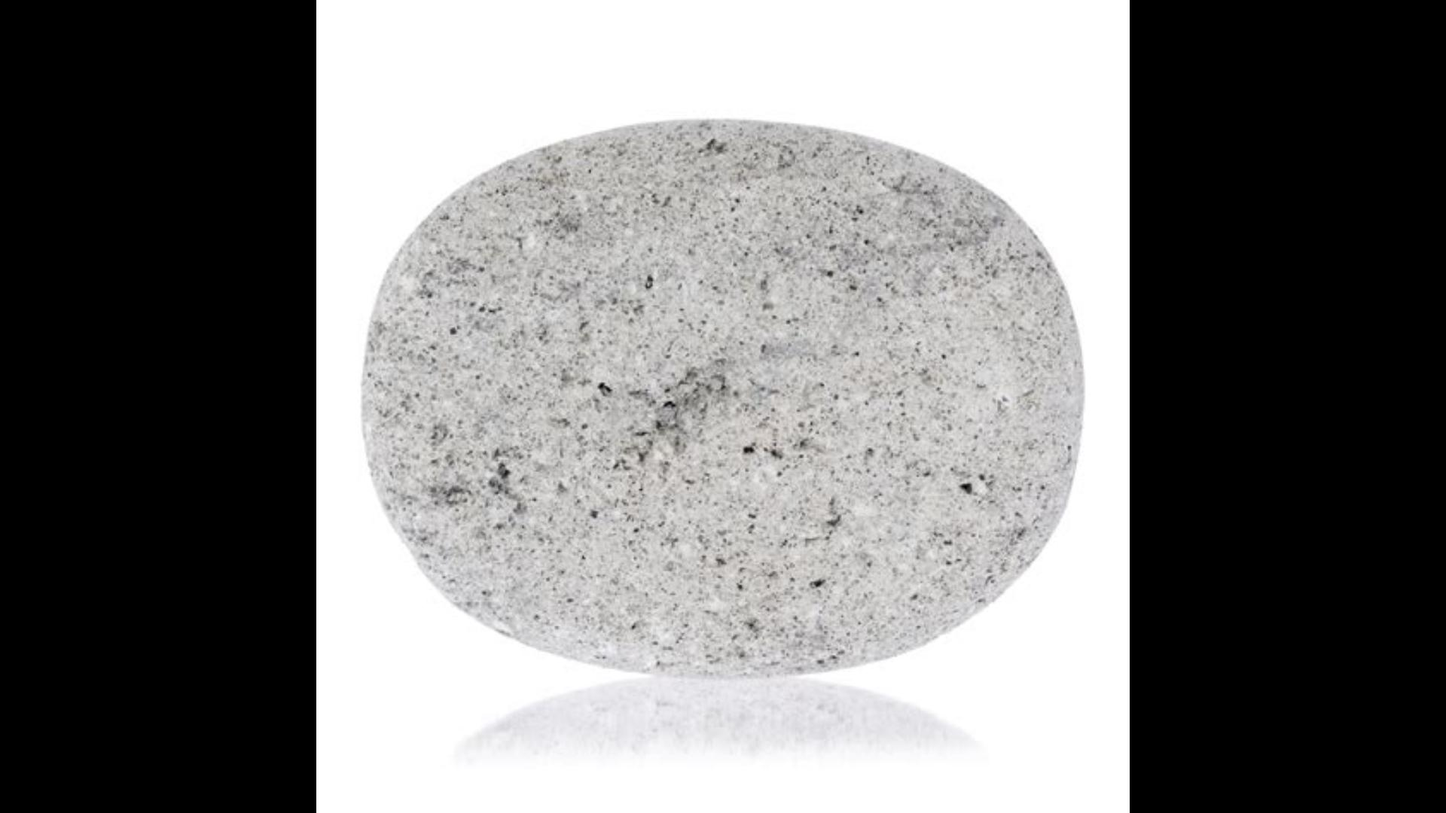rock: (364, 123, 1082, 672)
